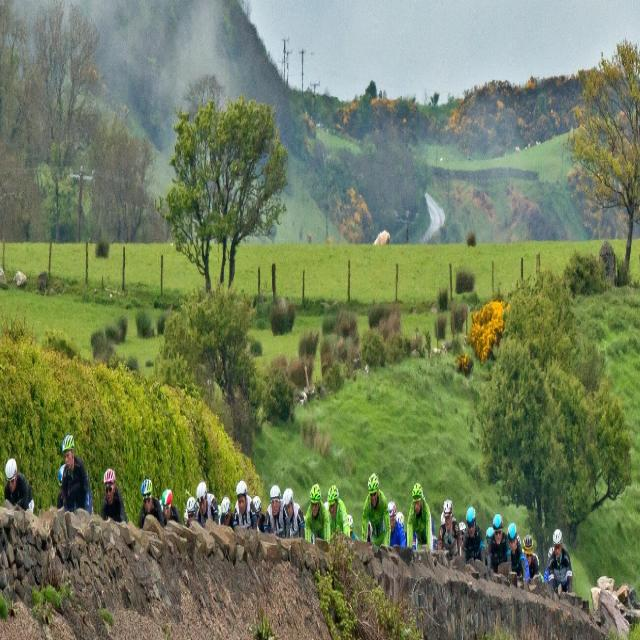illegal_helmet: (61, 430, 76, 471), (4, 456, 19, 494), (140, 476, 154, 514), (103, 466, 116, 506), (366, 471, 379, 508), (411, 480, 424, 516), (506, 521, 519, 556), (492, 510, 504, 547), (196, 480, 209, 514), (161, 484, 173, 520), (327, 483, 339, 519), (236, 479, 248, 514), (269, 483, 281, 518), (466, 504, 478, 538), (552, 527, 564, 560), (443, 495, 454, 530), (522, 533, 534, 565), (310, 480, 320, 518), (186, 496, 197, 524)
